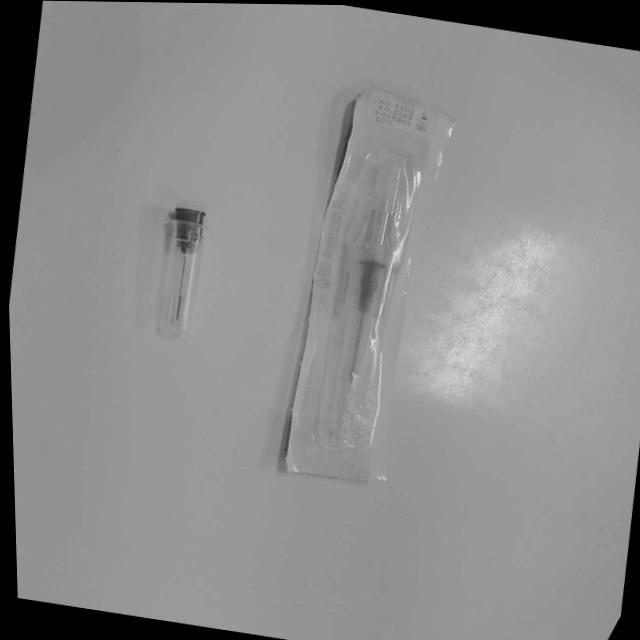Infectious: (279, 86, 455, 483)
Sharps: (153, 205, 206, 338)
